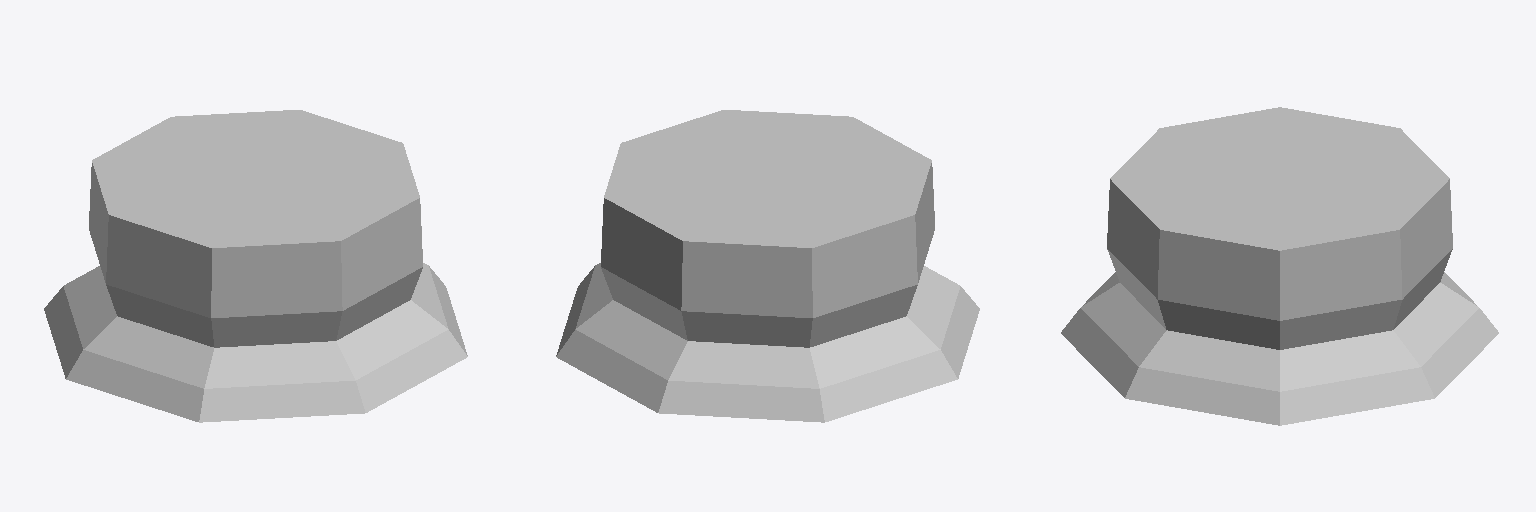
File: Pinball_Bumper02.obj
3 views of the same model, side by side, from view 1: azimuth 30°, elevation 25°; view 2: azimuth 150°, elevation 25°; view 3: azimuth 270°, elevation 25° (orthographic).
Visible parts, largest first — view 1: Pinball_Bumper02; view 2: Pinball_Bumper02; view 3: Pinball_Bumper02.
Boxes of the visible parts, box(x1,y1,x2,y2) form: Pinball_Bumper02: box(44, 110, 467, 422); Pinball_Bumper02: box(556, 110, 979, 422); Pinball_Bumper02: box(1061, 107, 1498, 425).
Size of the model in its own units: 1.06 by 0.409 by 1.06.